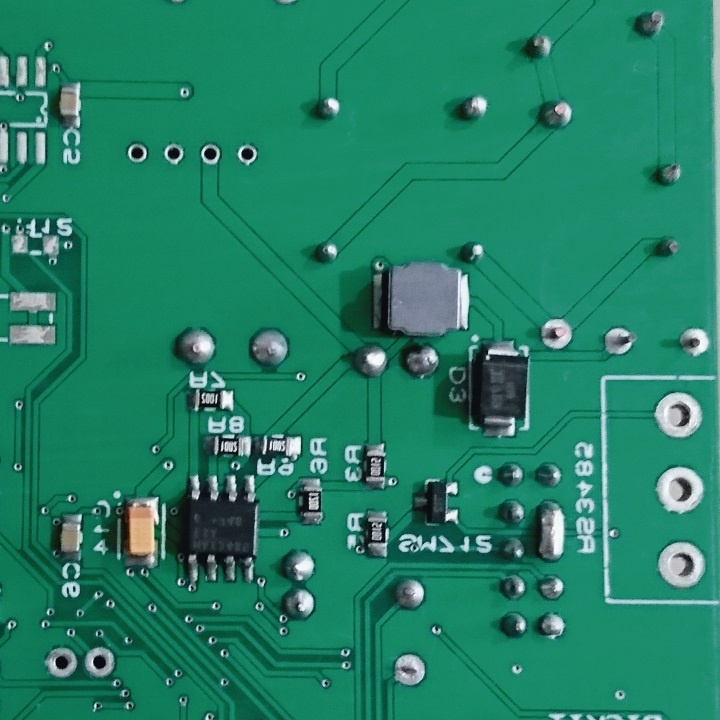F: (652, 463, 707, 518), (655, 538, 709, 590), (653, 389, 705, 441), (389, 652, 431, 688), (43, 643, 80, 681), (538, 316, 576, 352), (81, 642, 116, 680), (602, 323, 637, 359), (676, 325, 710, 360), (233, 142, 260, 169), (124, 140, 151, 165), (199, 142, 223, 166), (162, 143, 186, 167)
P: (533, 495, 569, 566)
